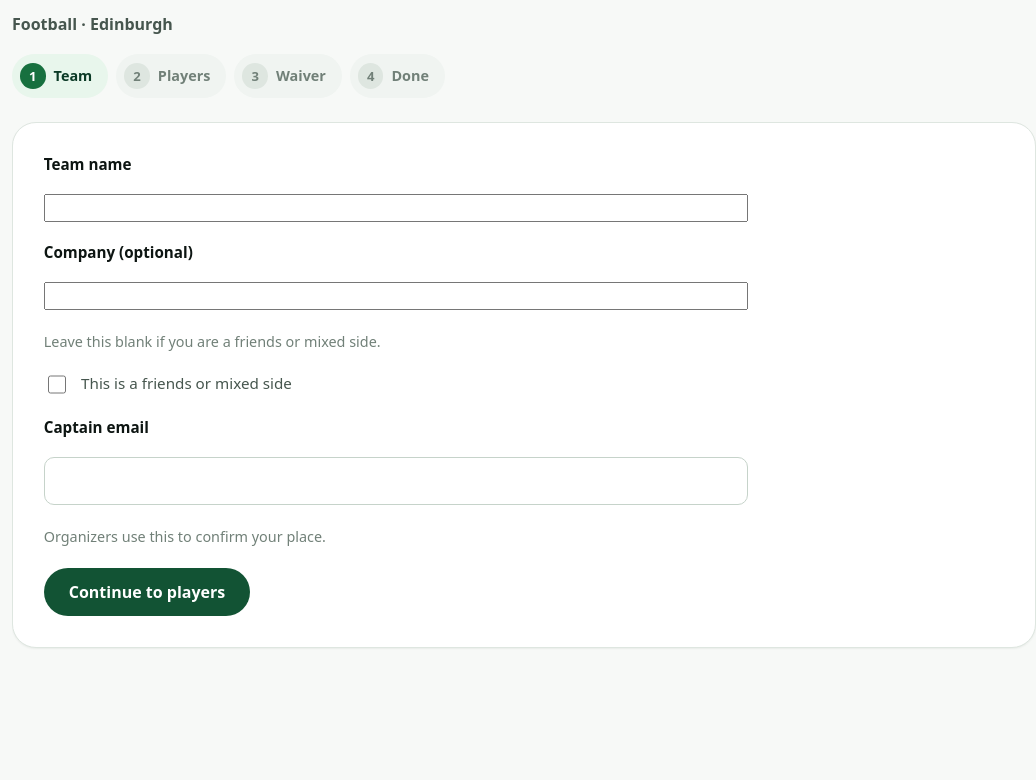
Scenario: RegisterWizard › keeps submit disabled until the waiver is accepted
This screenshot has width=1036, height=780.
In the field labelled "Team name": (396, 208) [44, 194, 748, 222], type "Pitch FC"
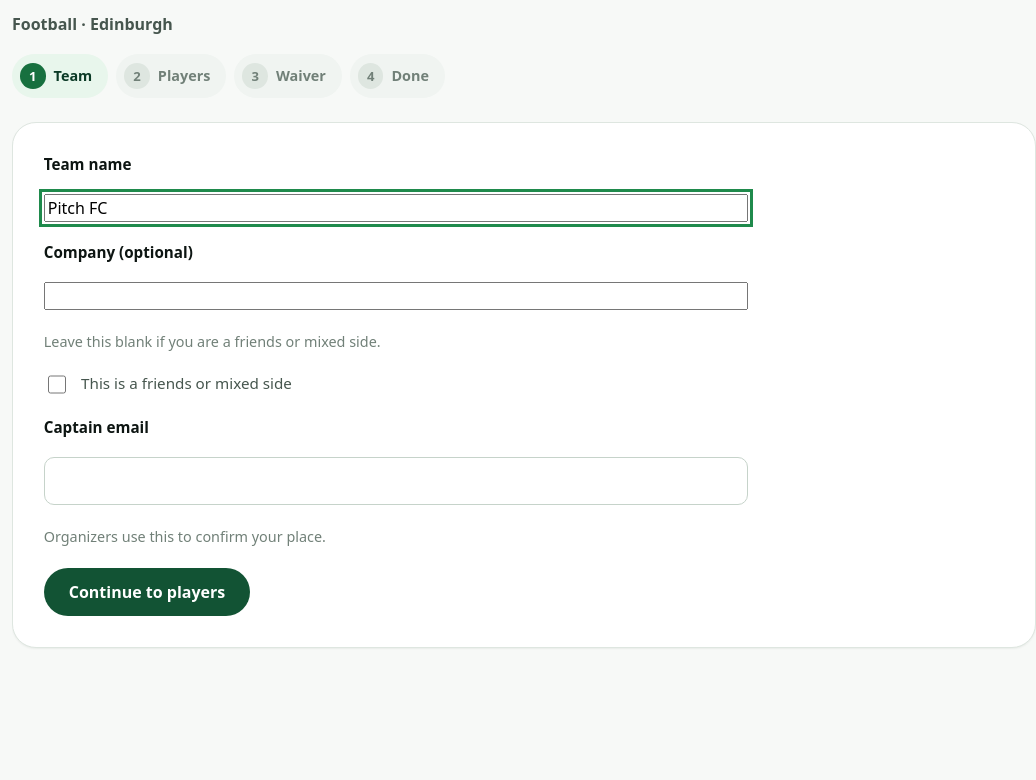
In the field labelled "Captain email": (396, 481) [44, 457, 748, 505], type "cap@example.com"
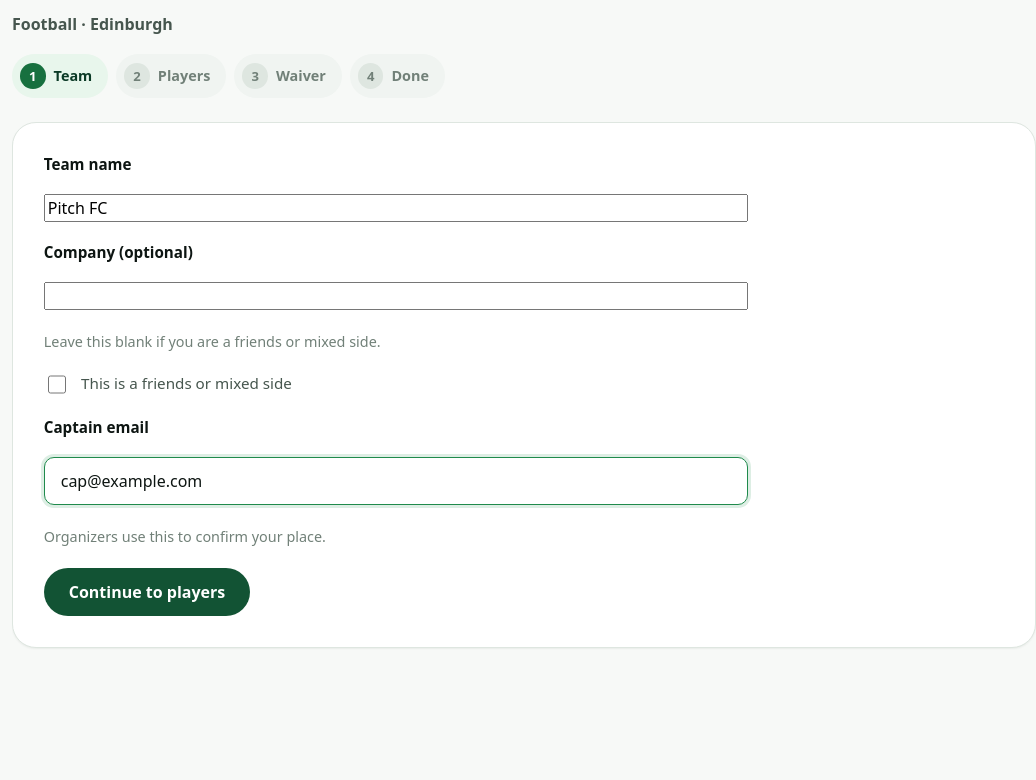
Click the button "Continue to players": (147, 592) [44, 568, 250, 616]
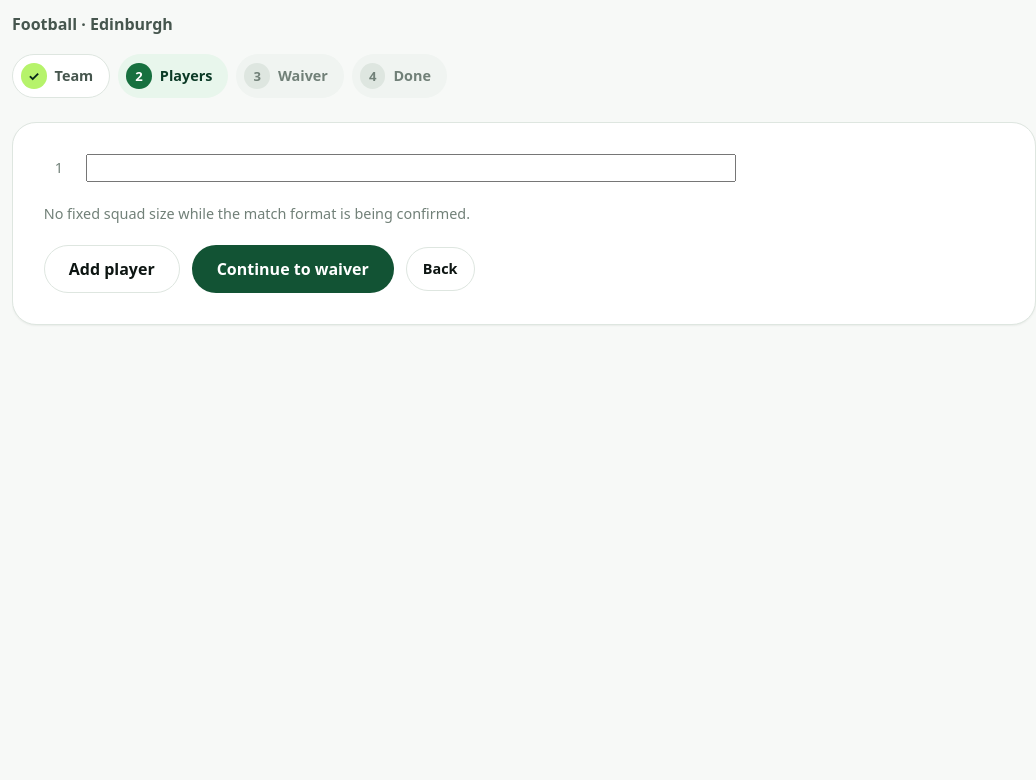
In the field named "Player 1": (411, 168) [86, 154, 736, 182], type "Alex"
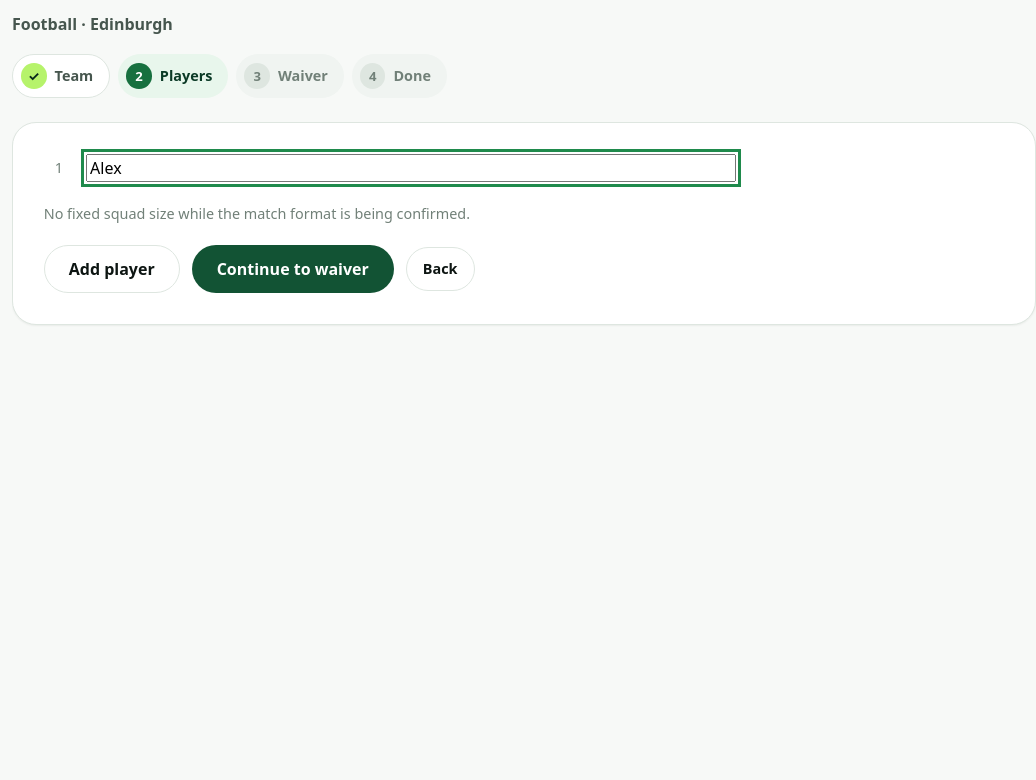
Click the button "Continue to waiver": (293, 269) [192, 245, 394, 293]
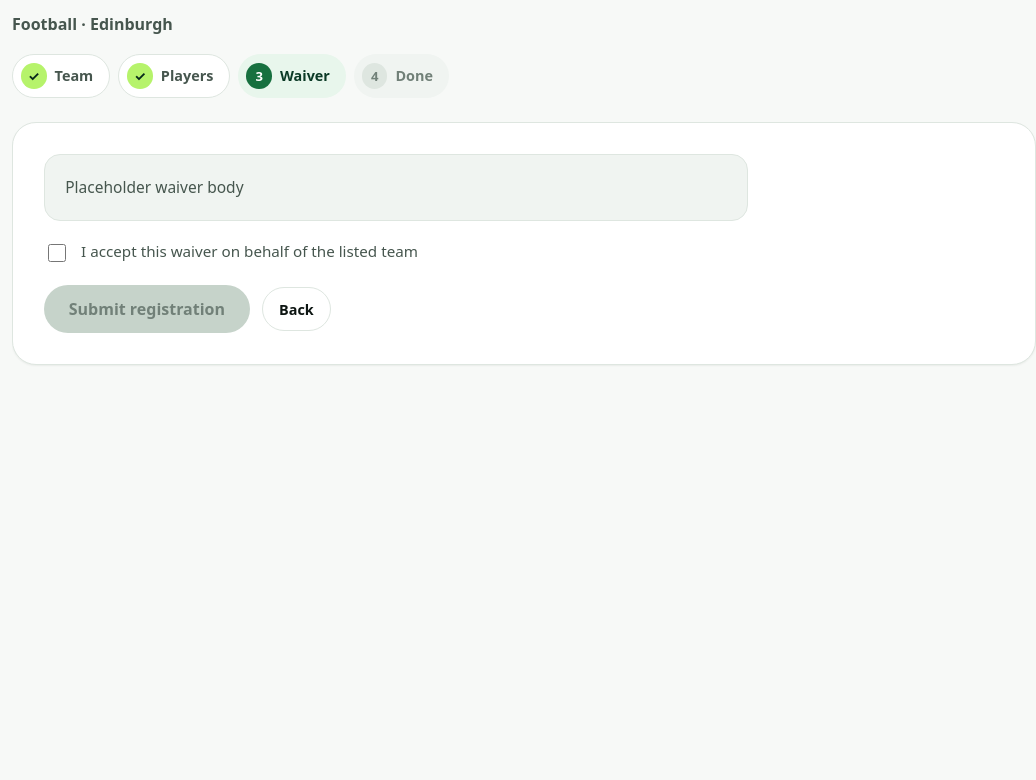
Expected: the button "Submit registration" is disabled, [44, 285, 250, 333]
